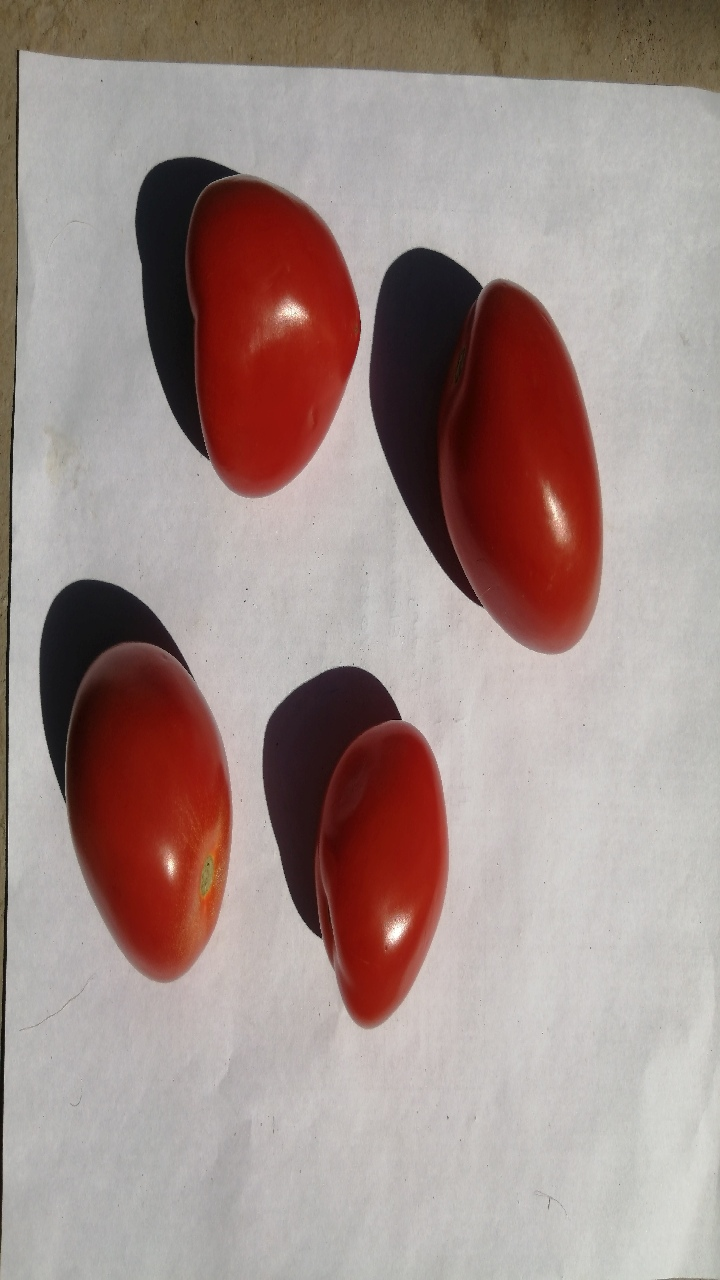tomateRojo: (408, 249, 620, 679), (152, 149, 372, 511), (48, 614, 254, 988), (294, 703, 464, 1051)
